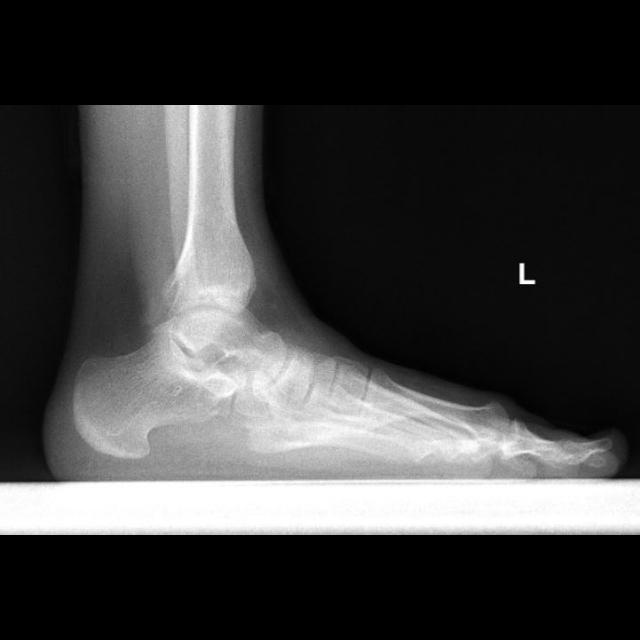a: (72, 329, 242, 458)
b: (257, 347, 320, 414)
c: (364, 367, 509, 446)
